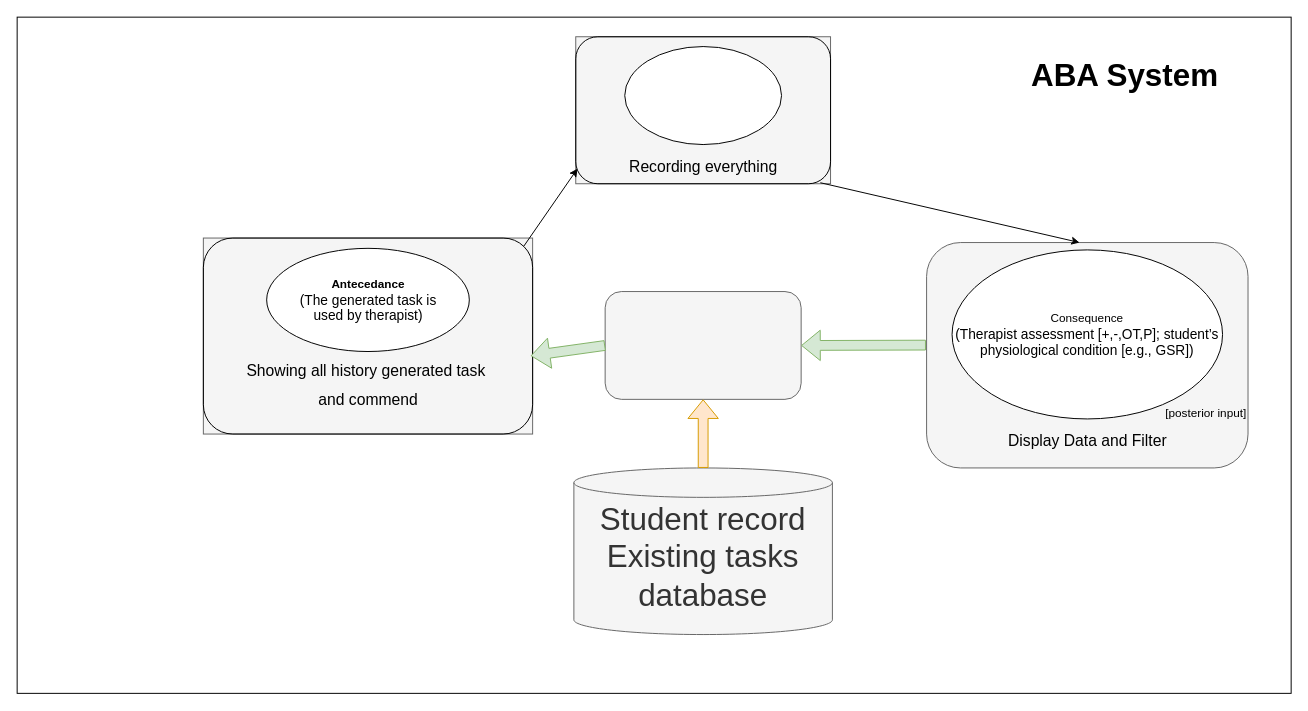
The diagram is 1308 pixels wide and 711 high, and some of its shapes have lost their labels. Each missing label, with the centre of its shape:
"Behavior (Student performs the task)" goes at point 703,95.
"LLM-RAG (ABA)" goes at point 702,345.
